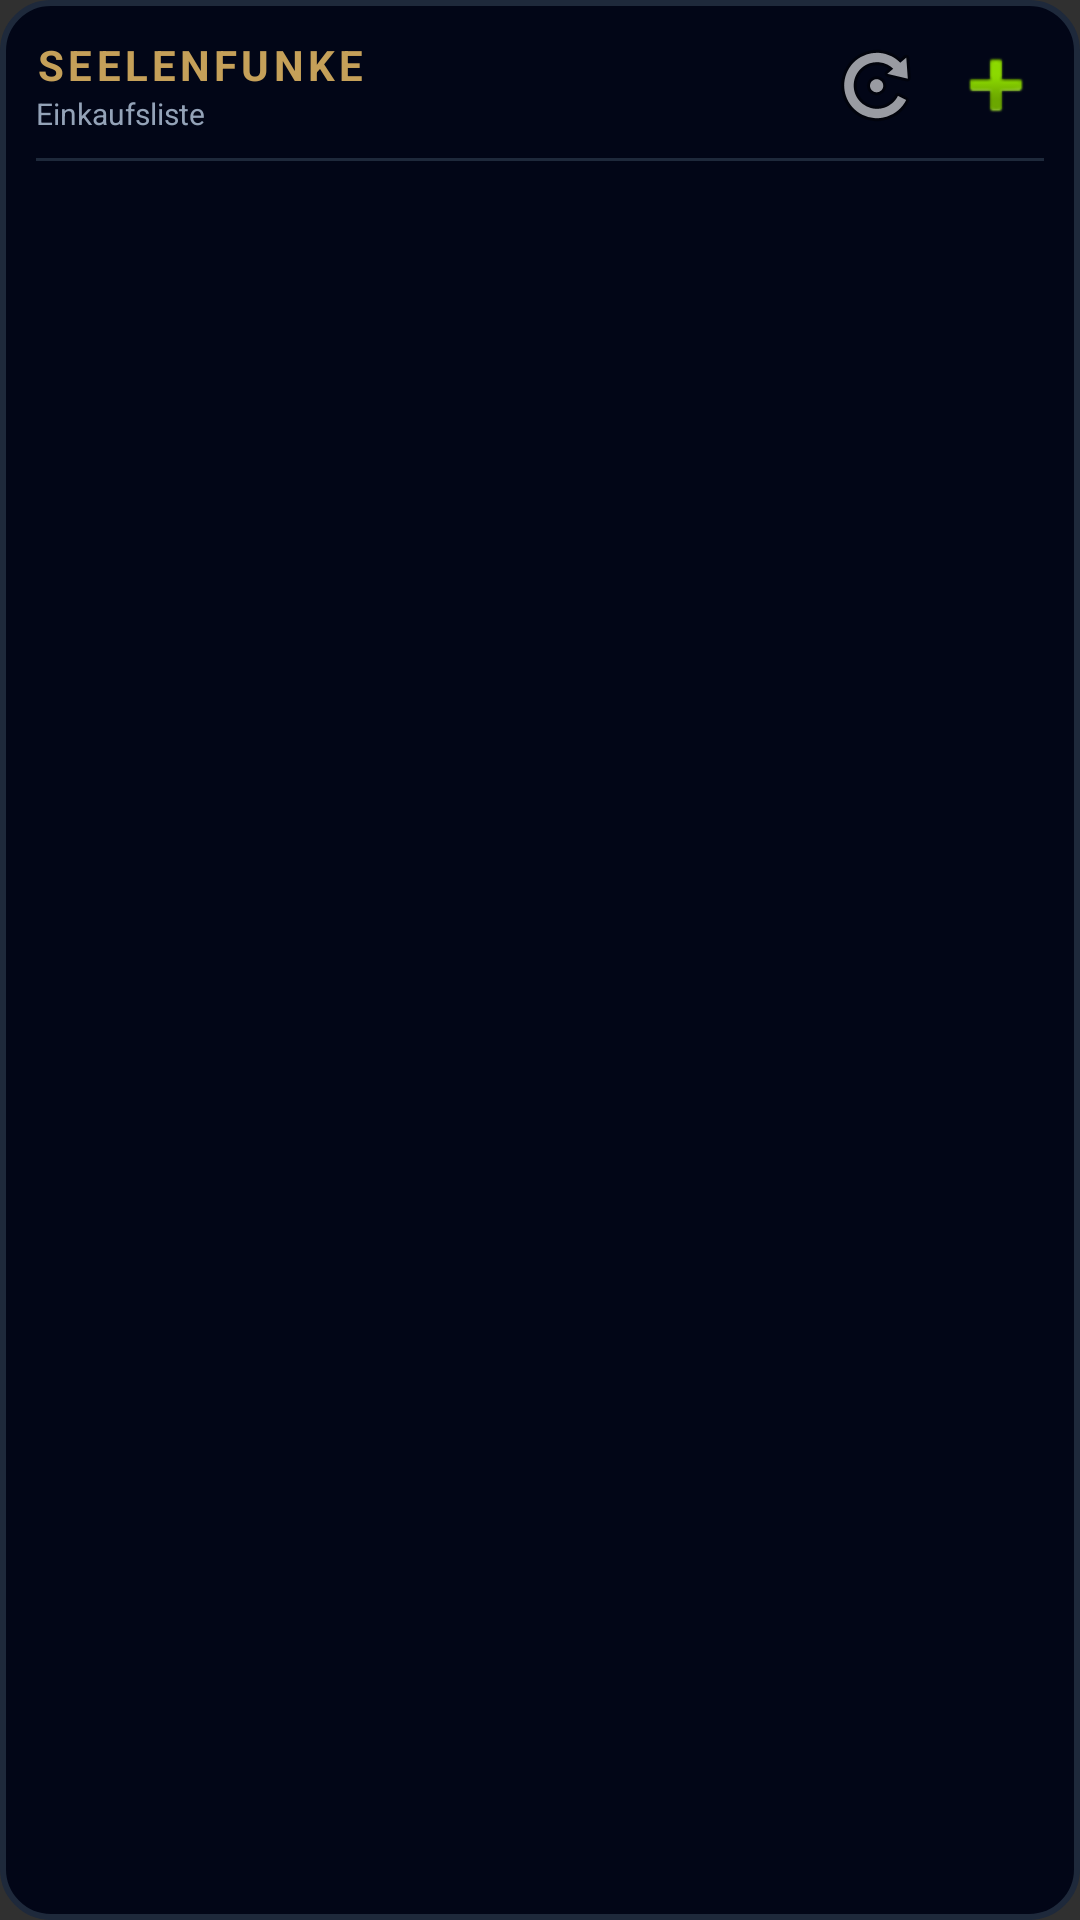

Icon click points for this 1080px x 1920px phone screenshot, format (x=x, y=y):
Aktualisieren: (x=876, y=85)
Artikel hinzufügen: (x=996, y=85)
